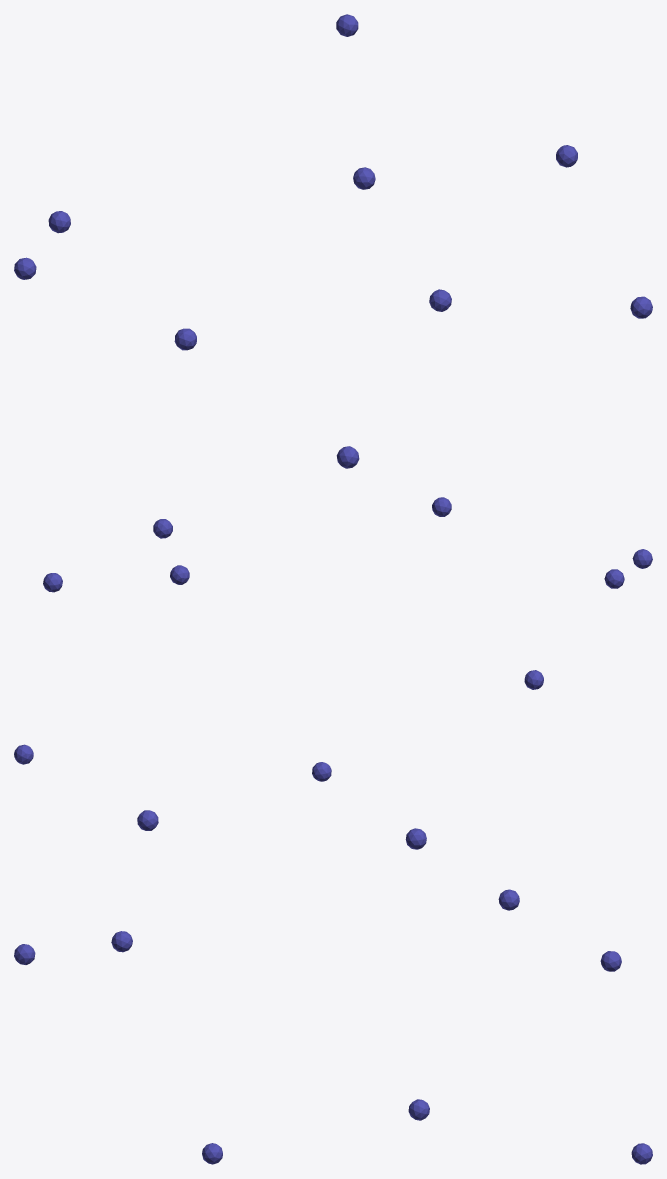
File: blbrrs22.fbx
The picture shows the model from 3 angles, top to bottom: view 1: azimuth 30°, elevation 25°; view 2: azimuth 150°, elevation 25°; view 3: azimuth 270°, elevation 25°; orthographic projection. The views are drawn at different scales.
Parts seen in each view (by area): view 1: Mball.003; view 2: Mball.003; view 3: Mball.003.
Boxes of the visible parts, x1=… form: Mball.003: x1=14, y1=14, x2=652, y2=468; Mball.003: x1=14, y1=497, x2=652, y2=781; Mball.003: x1=14, y1=810, x2=652, y2=1164.
Bounding box in the file's own units: 43.13 × 18.03 × 44.8.
